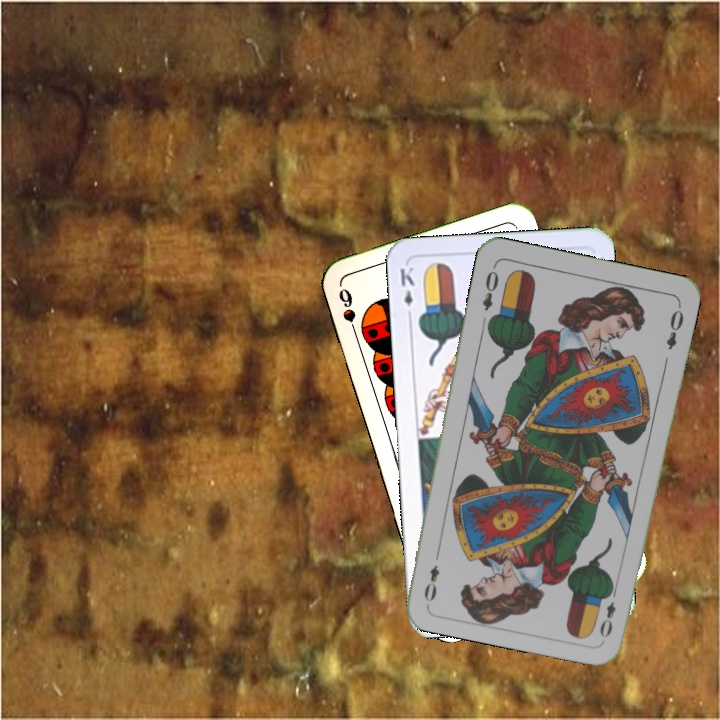EK: (396, 262, 417, 322)
EO: (596, 583, 620, 641), (478, 261, 501, 313)
S9: (334, 283, 361, 342)
